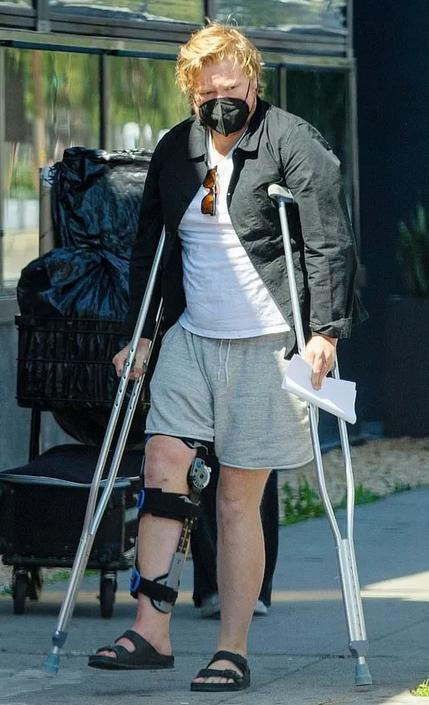crutches: (41, 25, 372, 692)
